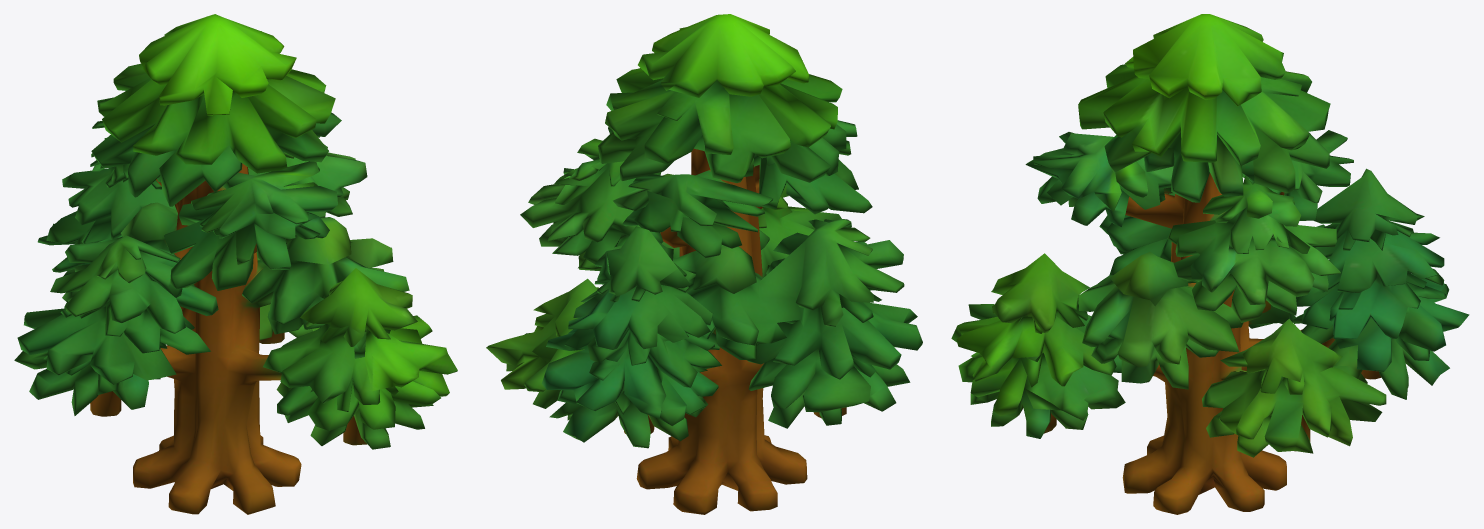
3 views of the same model, side by side, from view 1: azimuth 30°, elevation 25°; view 2: azimuth 150°, elevation 25°; view 3: azimuth 270°, elevation 25° (orthographic).
Parts seen in each view (by area): view 1: tripo_node_e1045a48-5114-45e9-a4c9-8e733d051e75; view 2: tripo_node_e1045a48-5114-45e9-a4c9-8e733d051e75; view 3: tripo_node_e1045a48-5114-45e9-a4c9-8e733d051e75.
Boxes of the visible parts, bbox=[...] form: tripo_node_e1045a48-5114-45e9-a4c9-8e733d051e75: bbox=[14, 14, 457, 514]; tripo_node_e1045a48-5114-45e9-a4c9-8e733d051e75: bbox=[486, 14, 922, 514]; tripo_node_e1045a48-5114-45e9-a4c9-8e733d051e75: bbox=[951, 14, 1469, 514].
Size of the model in its own units: 0.8004 by 0.9961 by 1.
1 material, 1 textured.
